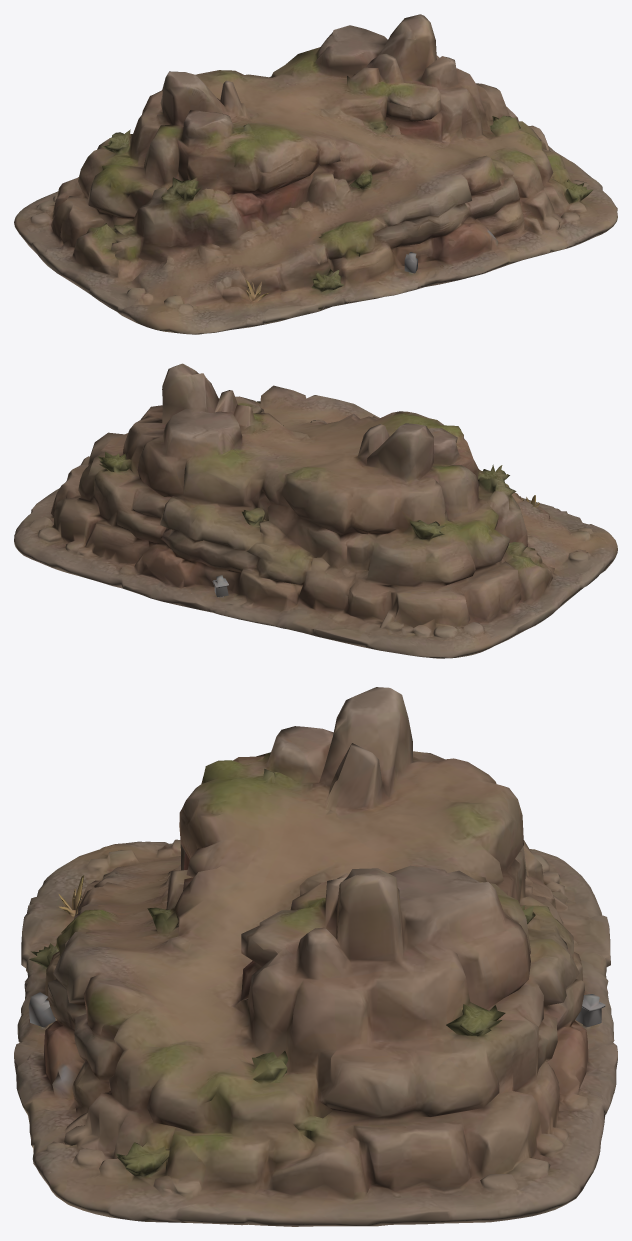
File: kano_dala_hill.glb
3 views of the same model, one above another, from view 1: azimuth 30°, elevation 25°; view 2: azimuth 150°, elevation 25°; view 3: azimuth 270°, elevation 25° (orthographic). The views are drawn at different scales.
Visible parts, largest first — view 1: tripo_node_886caaab-f332-4869-8ffc-f98081001ace; view 2: tripo_node_886caaab-f332-4869-8ffc-f98081001ace; view 3: tripo_node_886caaab-f332-4869-8ffc-f98081001ace.
Part boxes in pixels (x1,y1,x2,y2): tripo_node_886caaab-f332-4869-8ffc-f98081001ace: (14, 14, 617, 334); tripo_node_886caaab-f332-4869-8ffc-f98081001ace: (14, 363, 617, 658); tripo_node_886caaab-f332-4869-8ffc-f98081001ace: (14, 687, 617, 1226).
Size of the model in its own units: 1 by 0.3128 by 0.6699.
Materials: 1 (1 with a texture image).
